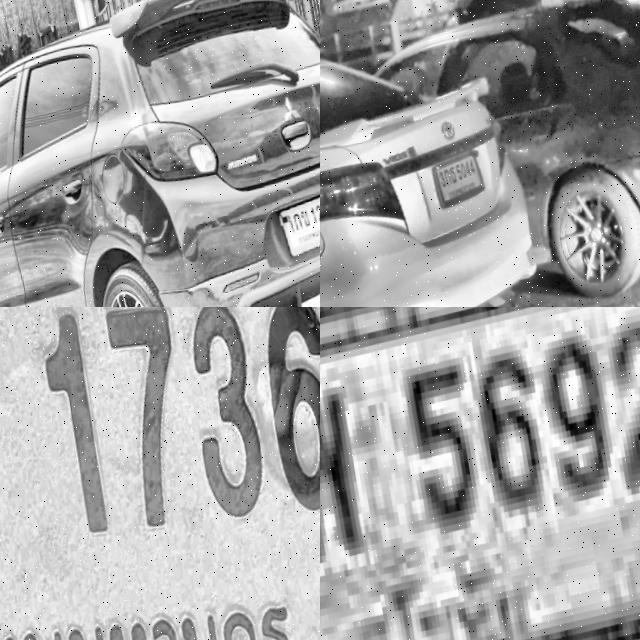license-plate: (0, 307, 320, 640), (320, 307, 640, 640), (427, 150, 487, 212), (275, 193, 320, 272)
